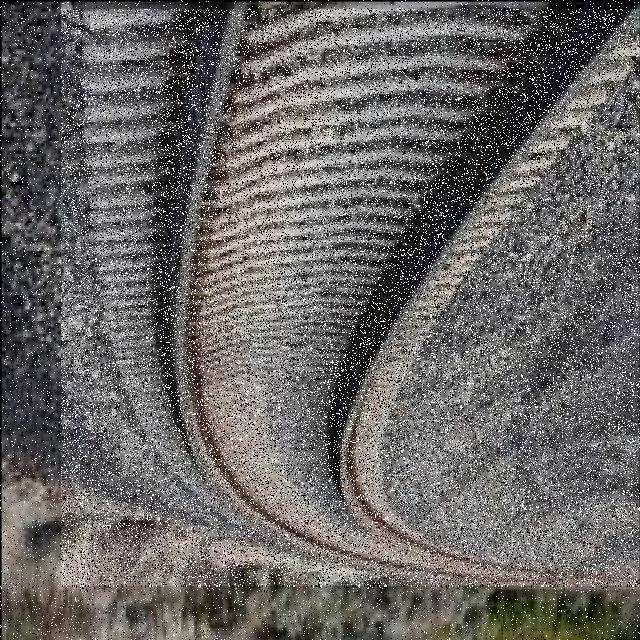rail: (62, 10, 640, 587)
